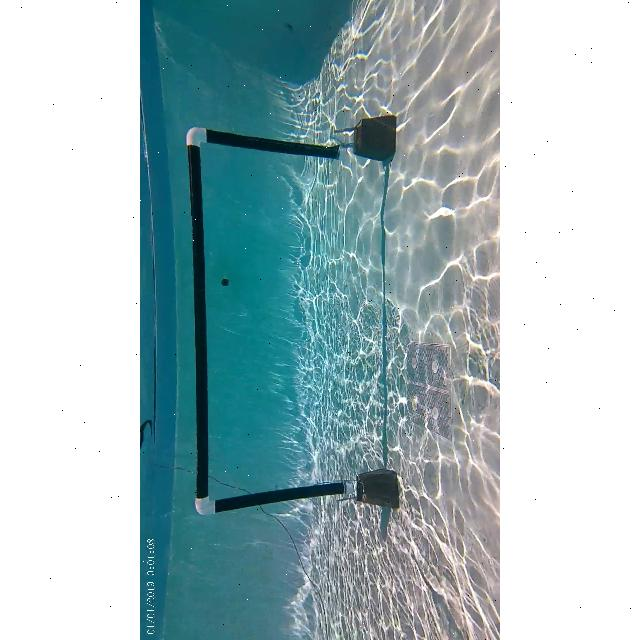prequal gate: (184, 127, 354, 517)
prequal gate leg l: (176, 480, 360, 514)
prequal gate leg r: (185, 123, 342, 163)
